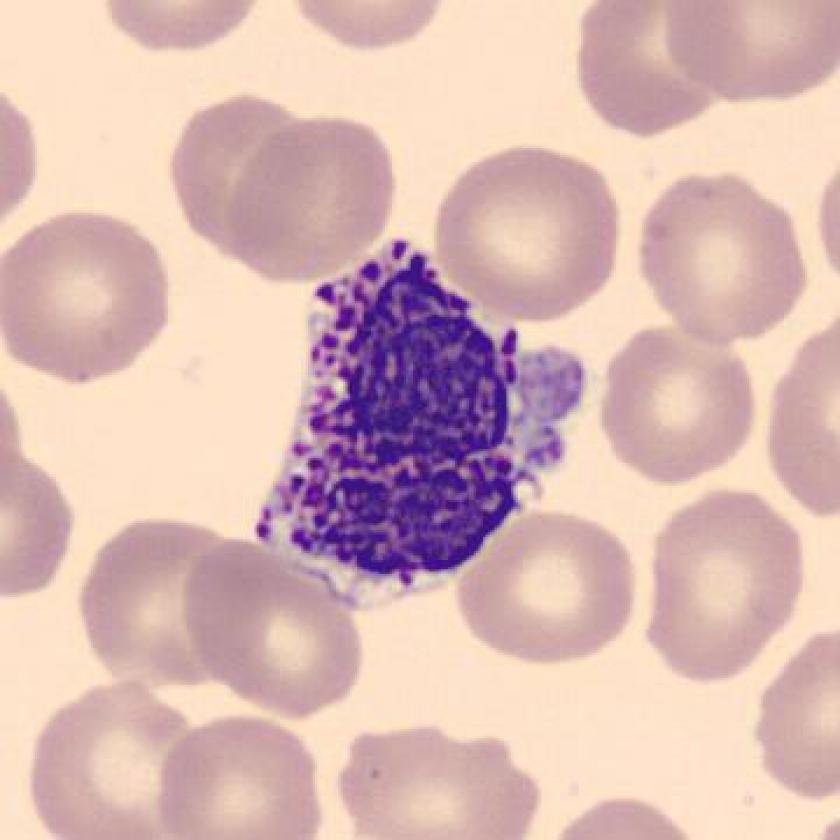basophil: (270, 239, 578, 591)
